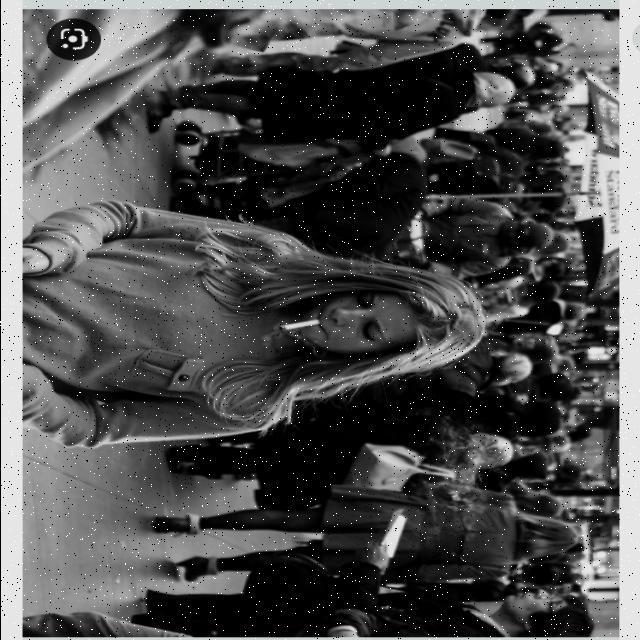face_no_mask: (294, 294, 414, 355)
